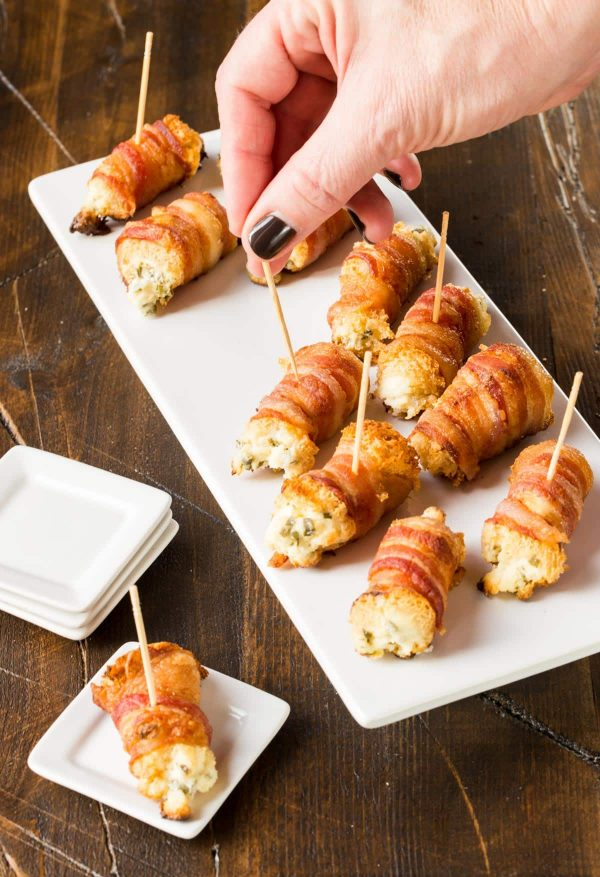cheese: (127, 742, 225, 804), (365, 588, 434, 658)
